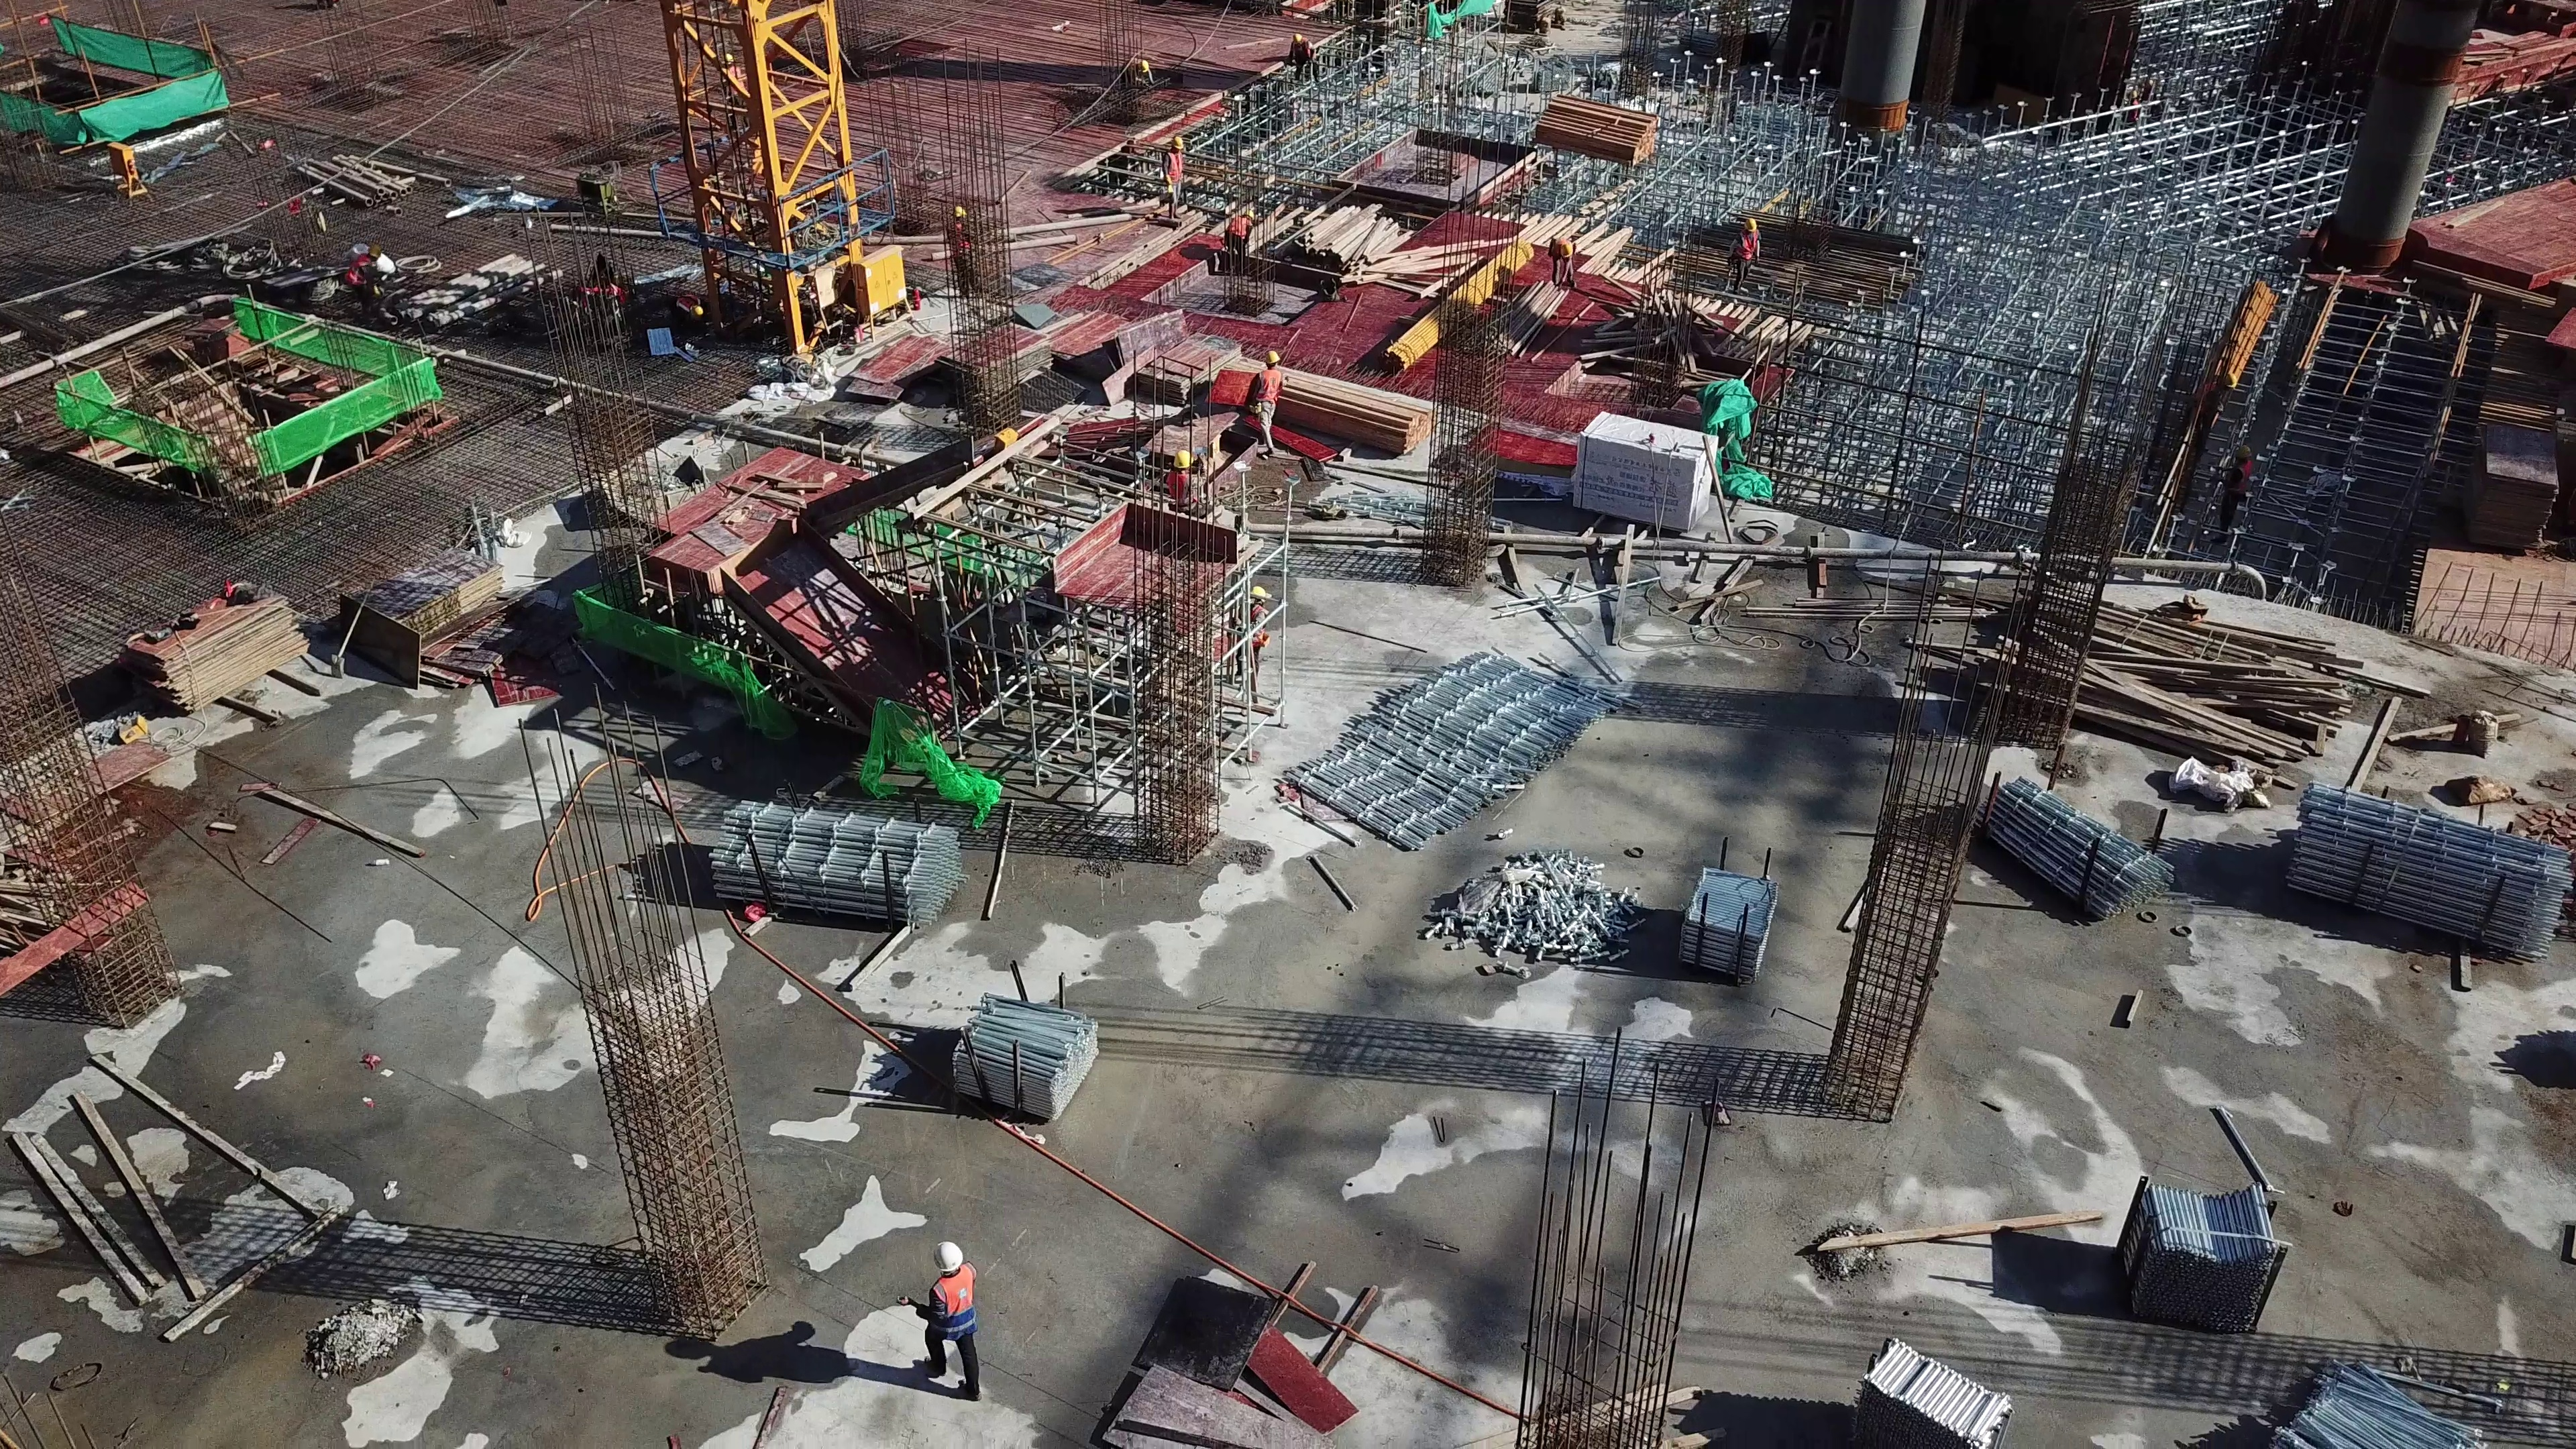board: (117, 576, 309, 712), (344, 535, 498, 689), (2473, 403, 2567, 552)
helmet: (936, 1232, 965, 1290)
person: (930, 1226, 989, 1409), (338, 246, 402, 327), (927, 205, 974, 313), (1240, 354, 1289, 459), (1721, 208, 1762, 292), (1158, 138, 1190, 231), (1540, 229, 1575, 296), (1167, 441, 1199, 497)
scaffold: (1286, 640, 1607, 847), (2272, 768, 2558, 967), (1432, 835, 1790, 981), (665, 786, 968, 934), (1968, 774, 2161, 920), (2121, 1168, 2281, 1316), (948, 996, 1099, 1124)
vest: (933, 1273, 991, 1340)
wood: (1957, 567, 2377, 783), (1236, 205, 1446, 310), (1251, 354, 1438, 456)
